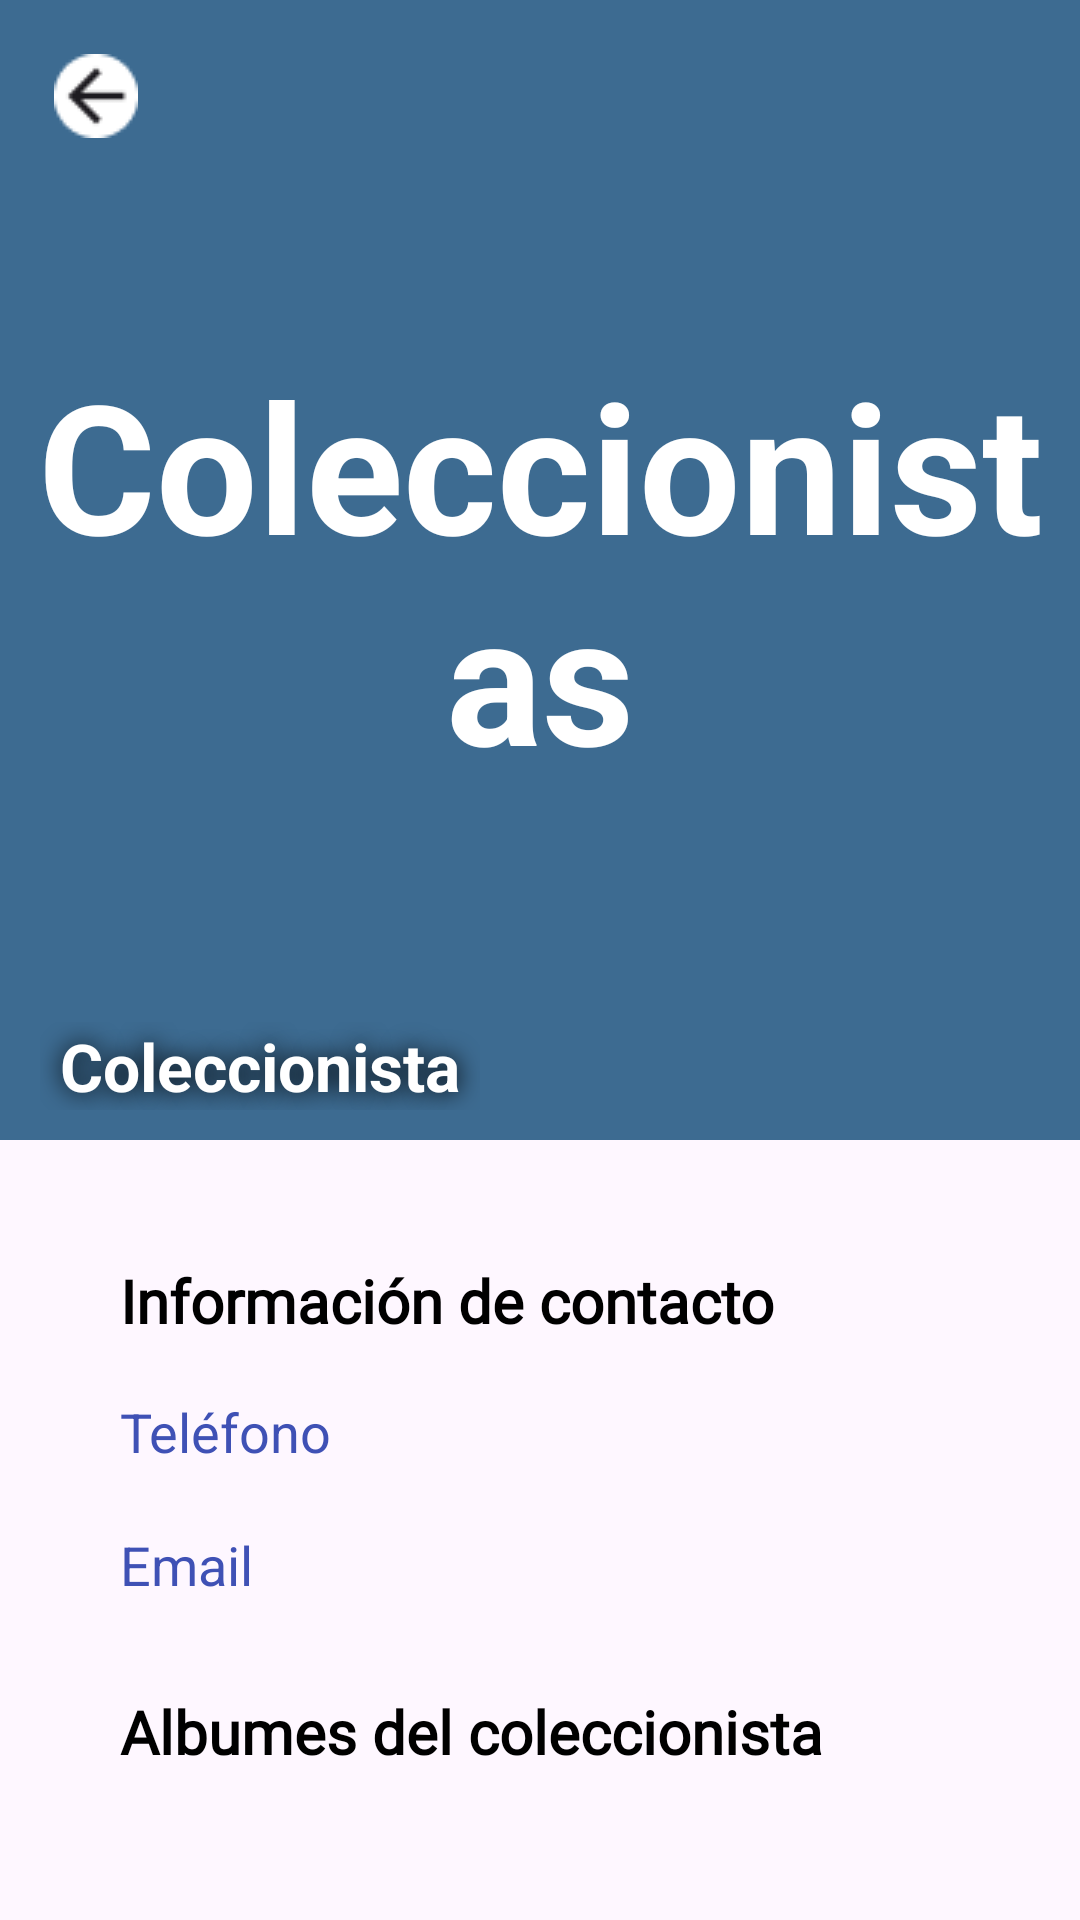

Named icons in this screenshot (1080 × 1920) and their centers, (x,y):
Collector detail back button: (96,96)
